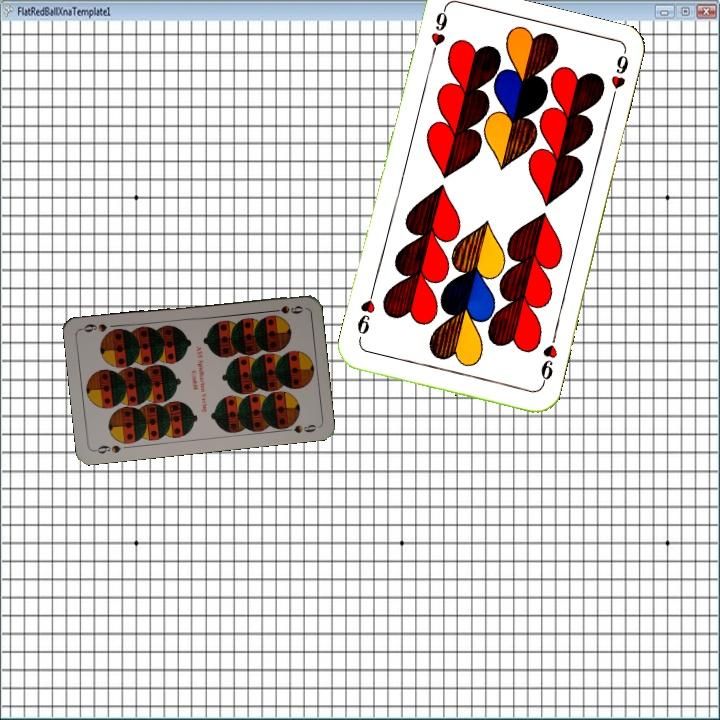H9: (536, 331, 560, 390), (426, 6, 450, 64)
S9: (265, 301, 306, 316), (90, 441, 123, 456)
